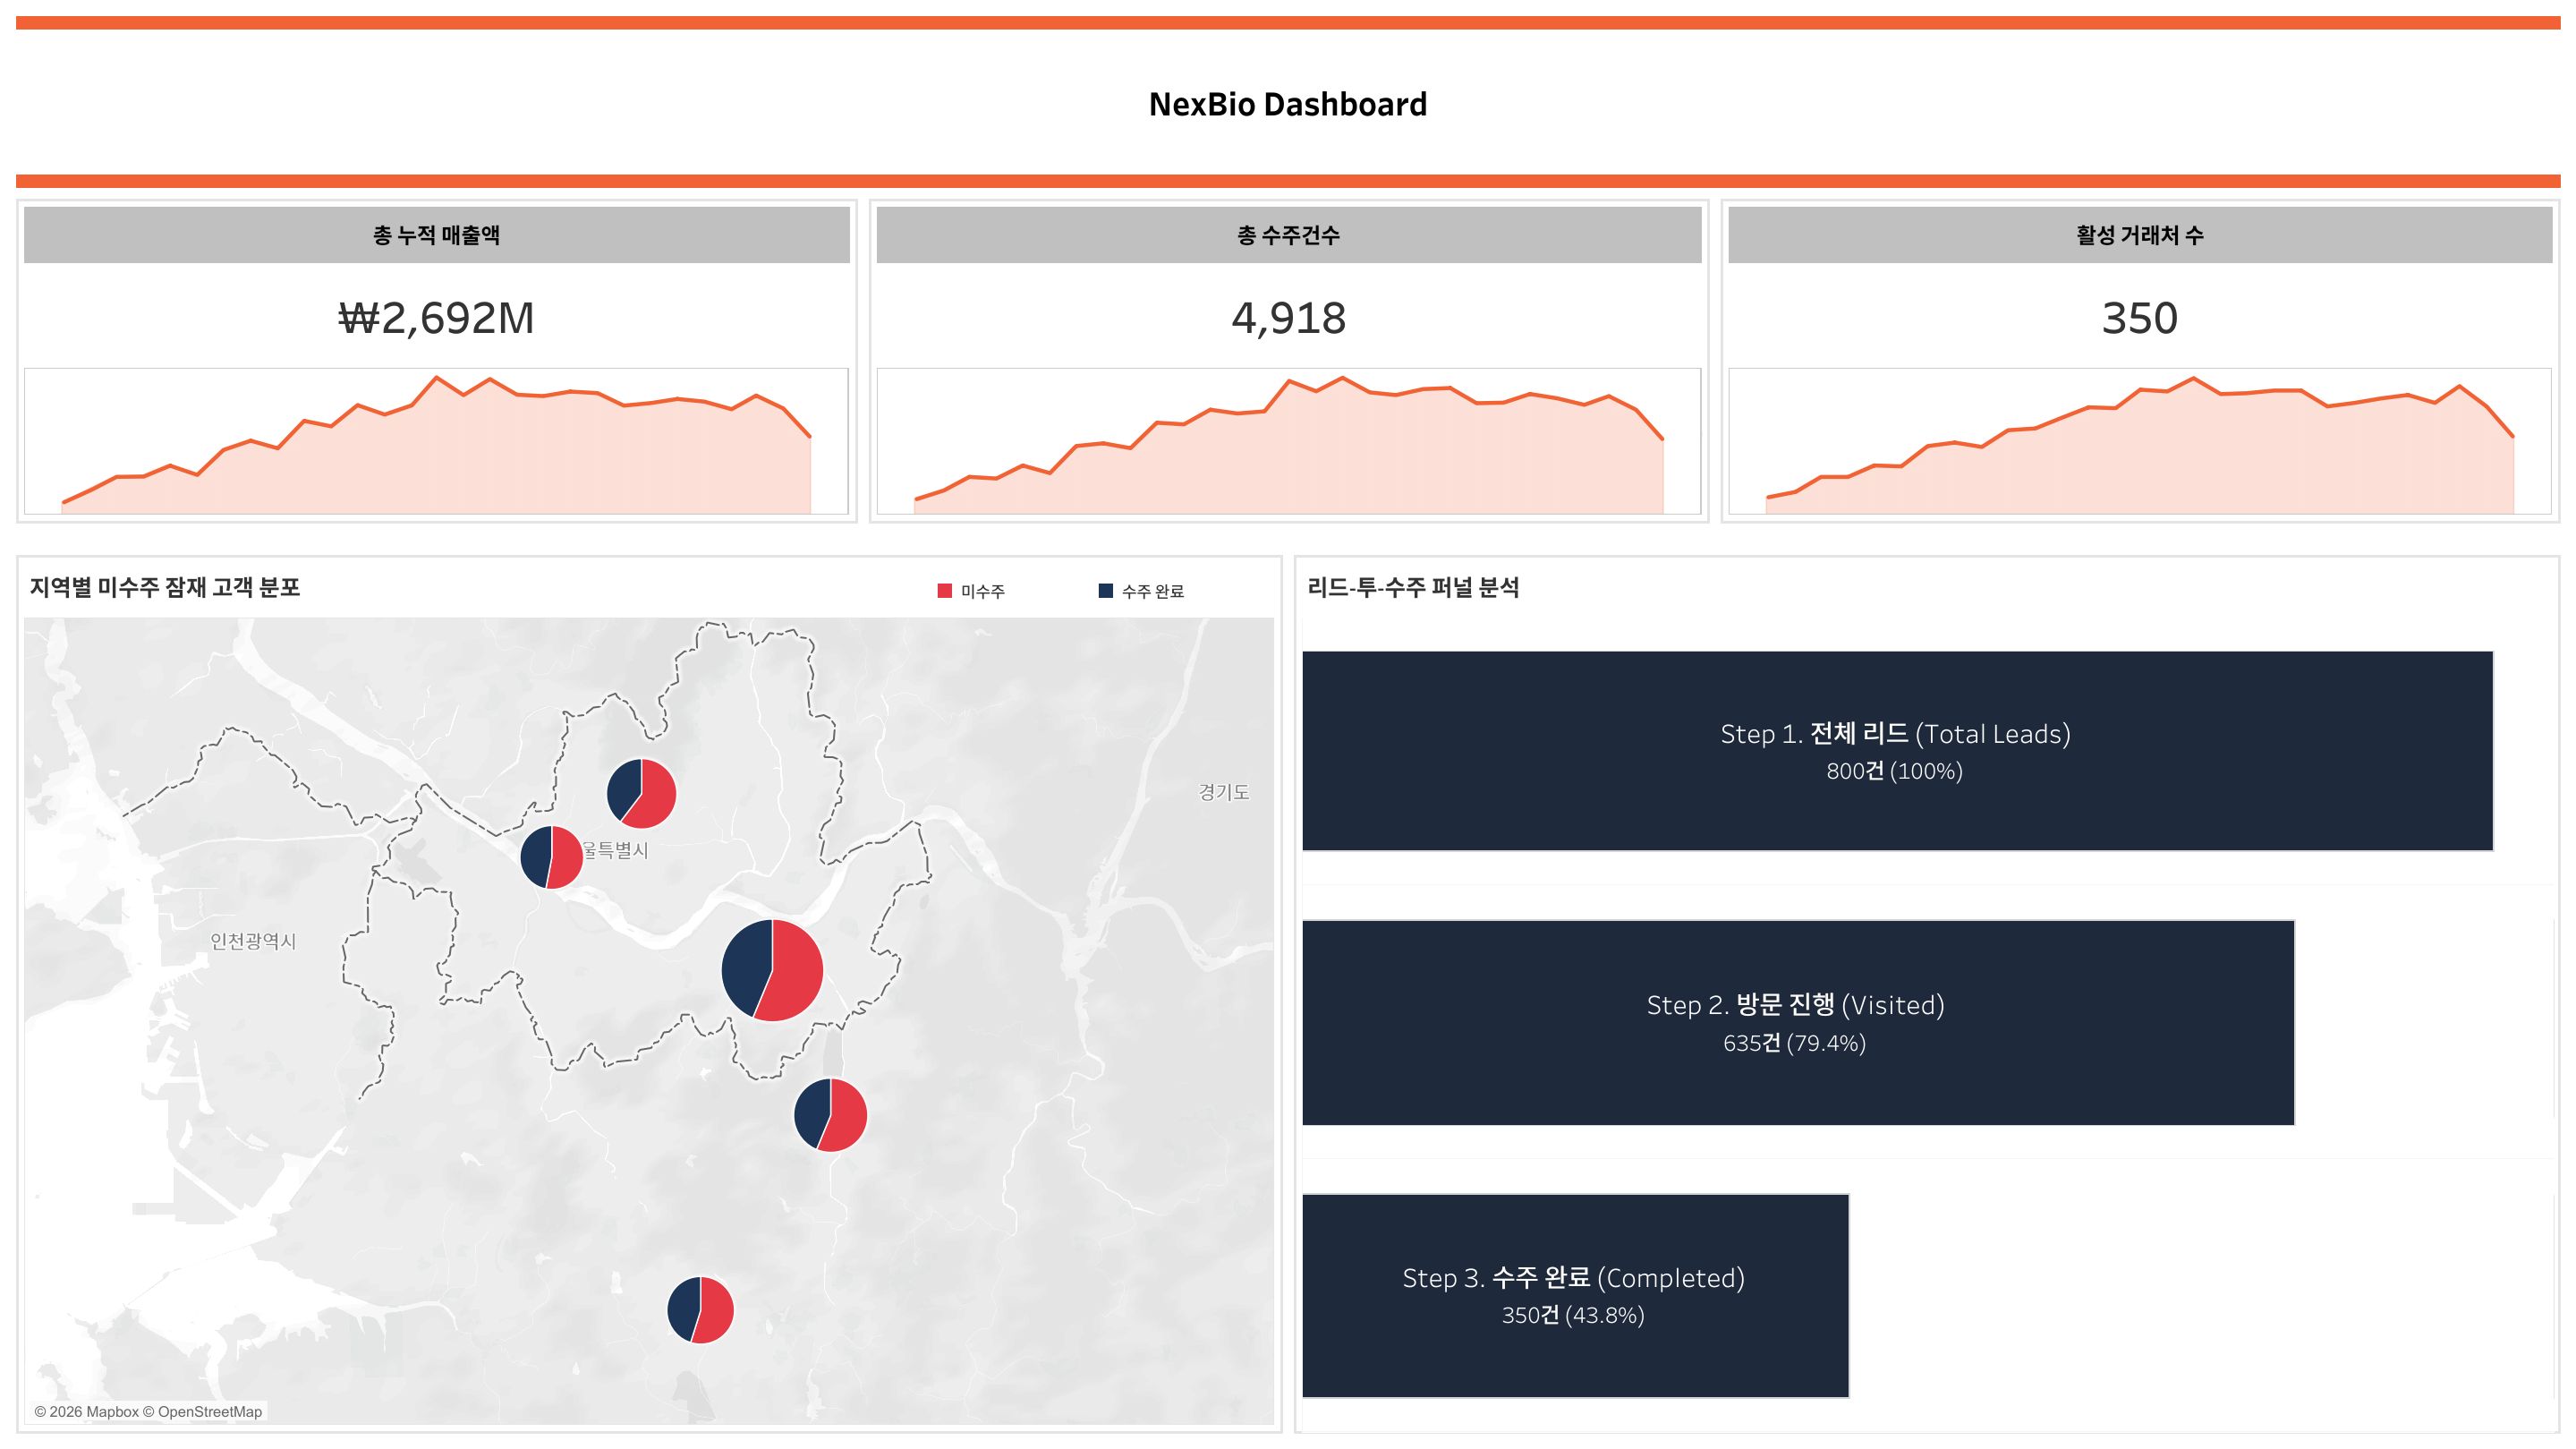

The page's visual inventory and layout, read from the dashboard file:
{"tool":"tableau","page":{"name":"Overview","canvas":[1920,1080],"ordinal":1},"visuals":[{"type":"blank","box":[8,8,1904,18]},{"type":"blank","box":[8,26,632,100]},{"type":"text","box":[640,26,640,100]},{"type":"blank","box":[1280,26,632,100]},{"type":"blank","box":[8,126,1904,18]},{"type":"text","box":[14,150,623,50]},{"type":"text","box":[649,150,623,50]},{"type":"text","box":[1284,150,622,50]},{"type":"worksheet","title":"KPI_총매출","mark":"Text","box":[14,200,623,70]},{"type":"worksheet","title":"KPI_총수주건수","mark":"Text","box":[649,200,623,70]},{"type":"worksheet","title":"KPI_활성거래처수","mark":"Text","box":[1284,200,622,70]},{"type":"worksheet","title":"총매출","mark":"Automatic","rows":["sales_amount (Order!Fact1)"],"cols":["order_datetime (Order!Fact1)","order_datetime (Order!Fact1)"],"box":[14,270,623,118]},{"type":"worksheet","title":"총수주건수","mark":"Automatic","rows":["order_id (Order!Fact1)"],"cols":["order_datetime (Order!Fact1)","order_datetime (Order!Fact1)"],"box":[649,270,623,118]},{"type":"worksheet","title":"활성거래처수","mark":"Automatic","rows":["hospital_id (Order!Fact1)"],"cols":["order_datetime (Order!Fact1)","order_datetime (Order!Fact1)"],"box":[1284,270,622,118]},{"type":"blank","box":[8,394,1904,15]},{"type":"worksheet","title":"지역별 미수주 잠재 고객 분포","mark":"Pie","box":[14,415,940,651]},{"type":"worksheet","title":"리드-투-수주 퍼널 분석","mark":"Automatic","cols":["Calculation_1486818575384576"],"box":[966,415,940,251]},{"type":"legend","title":"지역별 미수주 잠재 고객 분포","param":"[federated.0osbgfe0crue4t1a0p3690vyumez].[:Measure Names]","box":[694,430,251,35]},{"type":"worksheet","title":"리드-투-수주 퍼널 분석2","mark":"Automatic","cols":["Calculation_1486818578808833"],"box":[966,666,940,200]},{"type":"worksheet","title":"리드-투-수주 퍼널 분석3","mark":"Automatic","cols":["Calculation_1486818578845698"],"box":[966,866,940,200]}]}

Visuals, with their boxes in screenshot pixels (x1, y1, x2, y2), scaled from the page's 1920x1080 canvas onto the 2576x1449 screenshot:
blank: 11:11:2565:35
blank: 11:35:859:169
text: 859:35:1717:169
blank: 1717:35:2565:169
blank: 11:169:2565:193
text: 19:201:854:268
text: 871:201:1706:268
text: 1722:201:2557:268
"KPI_총매출" worksheet (Text marks): 19:268:854:362
"KPI_총수주건수" worksheet (Text marks): 871:268:1706:362
"KPI_활성거래처수" worksheet (Text marks): 1722:268:2557:362
"총매출" worksheet: 19:362:854:521
"총수주건수" worksheet: 871:362:1706:521
"활성거래처수" worksheet: 1722:362:2557:521
blank: 11:529:2565:549
"지역별 미수주 잠재 고객 분포" worksheet (Pie marks): 19:557:1280:1430
"리드-투-수주 퍼널 분석" worksheet: 1296:557:2557:893
"지역별 미수주 잠재 고객 분포" legend: 931:577:1268:624
"리드-투-수주 퍼널 분석2" worksheet: 1296:893:2557:1162
"리드-투-수주 퍼널 분석3" worksheet: 1296:1162:2557:1430
